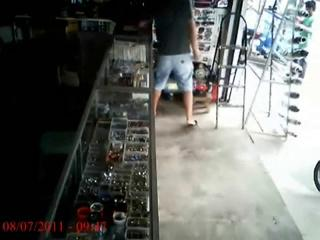shoplifting: (142, 0, 202, 128)
